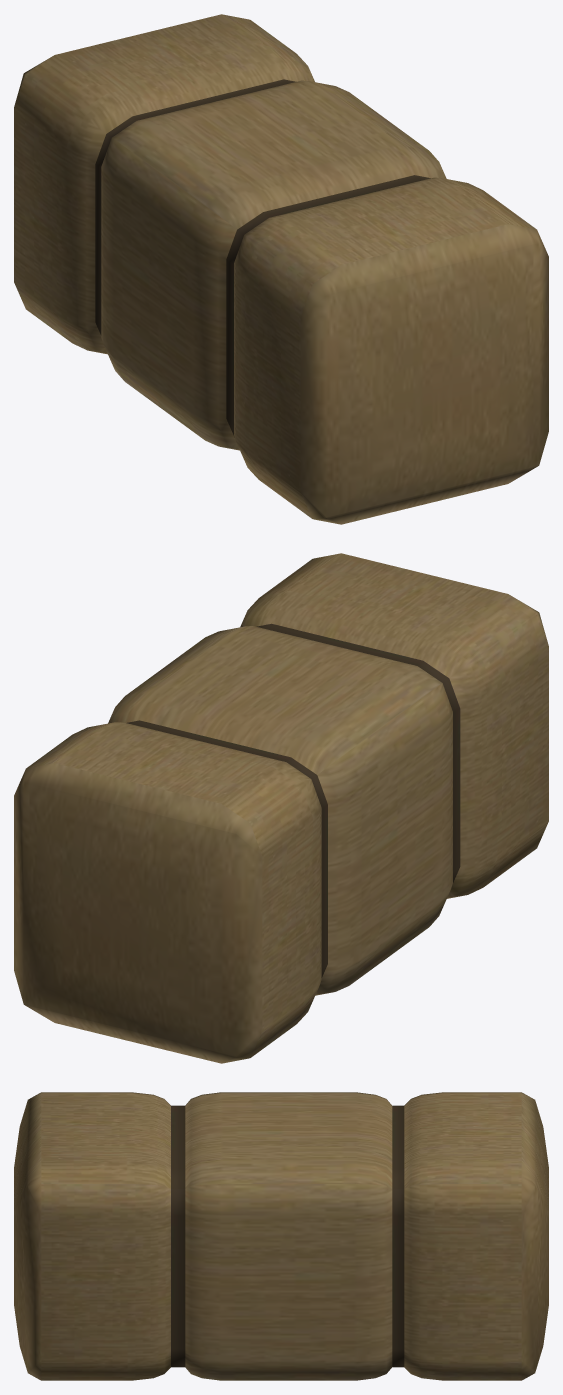
The model's file is bale_b.glb.
3 renders of one model, top to bottom at view 1: azimuth 30°, elevation 25°; view 2: azimuth 150°, elevation 25°; view 3: azimuth 270°, elevation 25°, orthographic. The views are drawn at different scales.
Parts seen in each view (by area): view 1: bale_b; view 2: bale_b; view 3: bale_b.
Part boxes in pixels (x1,y1,x2,y2): bale_b: (14, 14, 548, 524); bale_b: (14, 553, 548, 1063); bale_b: (14, 1092, 548, 1380).
Bounding box in the file's own units: 0.9 × 0.9 × 2.
1 material, 1 textured.
